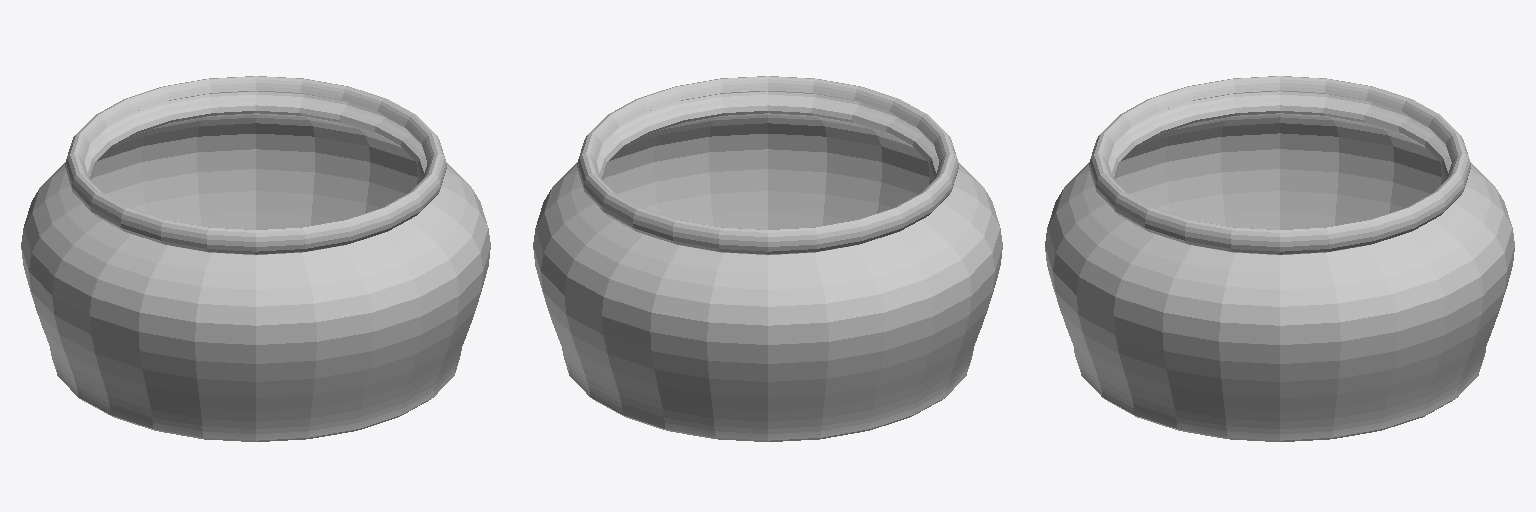
Rendered from Bowl.obj.
The picture shows the model from 3 angles: view 1: azimuth 30°, elevation 25°; view 2: azimuth 150°, elevation 25°; view 3: azimuth 270°, elevation 25°; orthographic projection.
Parts seen in each view (by area): view 1: Bowl; view 2: Bowl; view 3: Bowl.
Part boxes in pixels (x1,y1,x2,y2): Bowl: (21,76,490,441); Bowl: (533,76,1002,441); Bowl: (1045,76,1514,441).
Size of the model in its own units: 46.46 by 22.39 by 46.46.